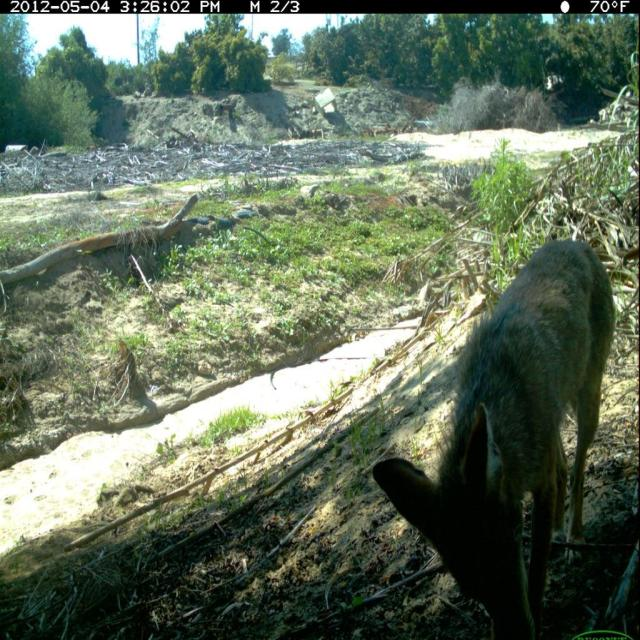coyote: (376, 229, 620, 637)
